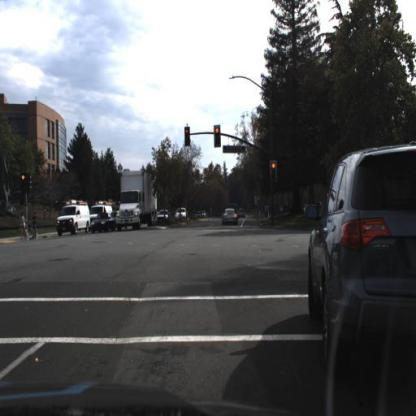biker: (17, 214, 31, 243), (19, 213, 26, 240), (33, 210, 37, 239)
car: (305, 139, 416, 416), (305, 142, 414, 369), (54, 204, 91, 235), (90, 203, 116, 228), (91, 213, 114, 233), (221, 207, 242, 226), (157, 209, 171, 224), (175, 208, 189, 222), (189, 207, 200, 223), (176, 208, 188, 220)
pedestrian: (30, 208, 40, 242), (31, 211, 41, 242), (115, 199, 125, 230)
trafficLight-Red: (212, 123, 222, 150), (269, 159, 279, 186)
trafficLight-RedLeft: (17, 172, 27, 196), (184, 124, 192, 148)
truck: (116, 171, 158, 232), (57, 201, 91, 236), (88, 202, 111, 226)
